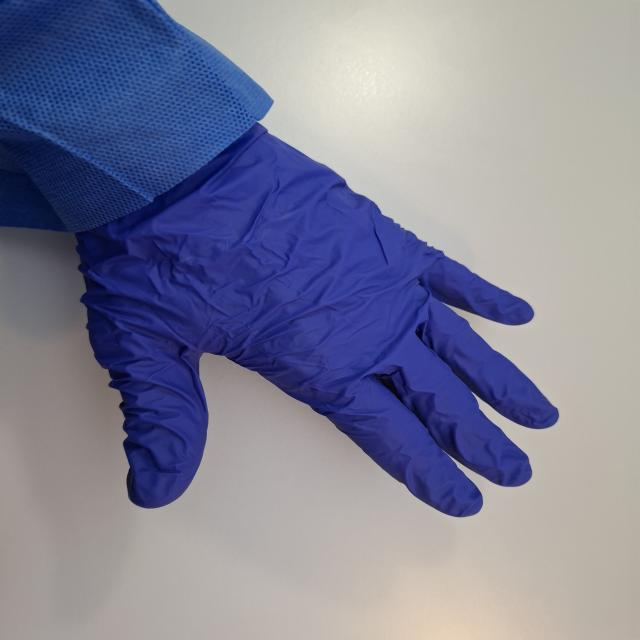glove_on: (65, 113, 561, 521)
